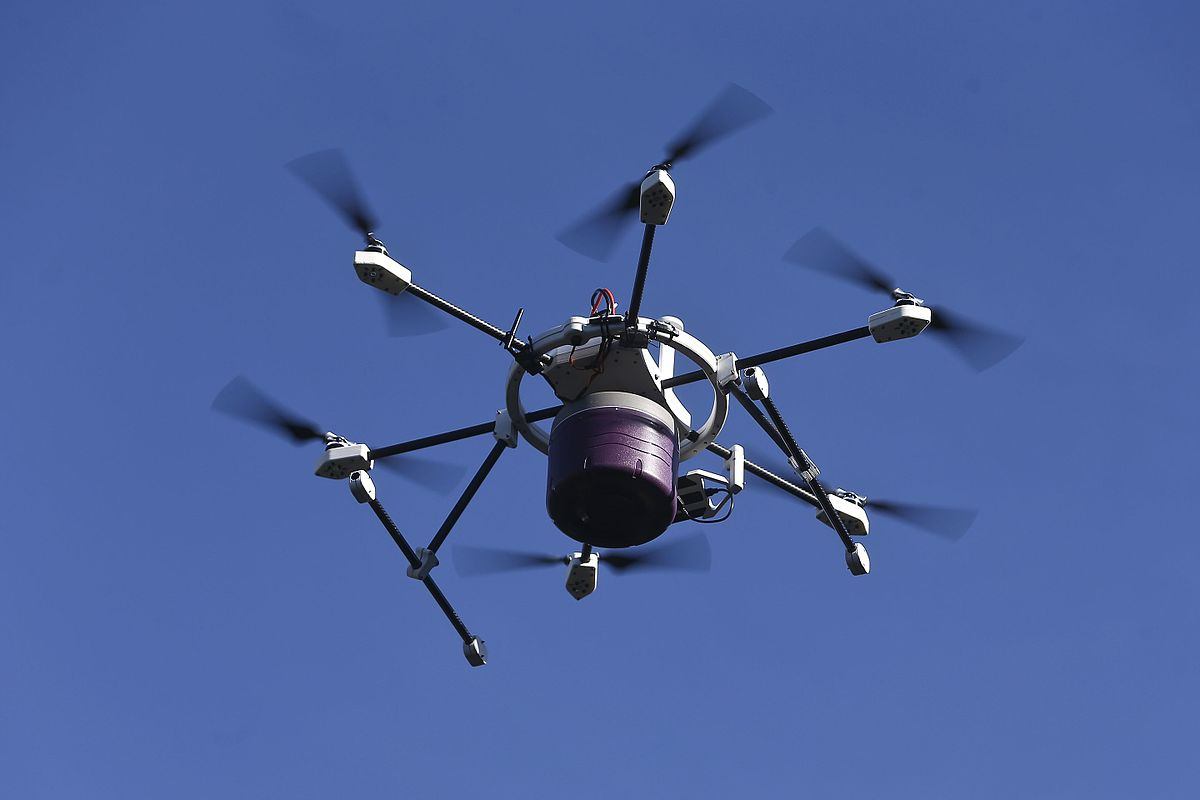drone: (209, 77, 1030, 672)
